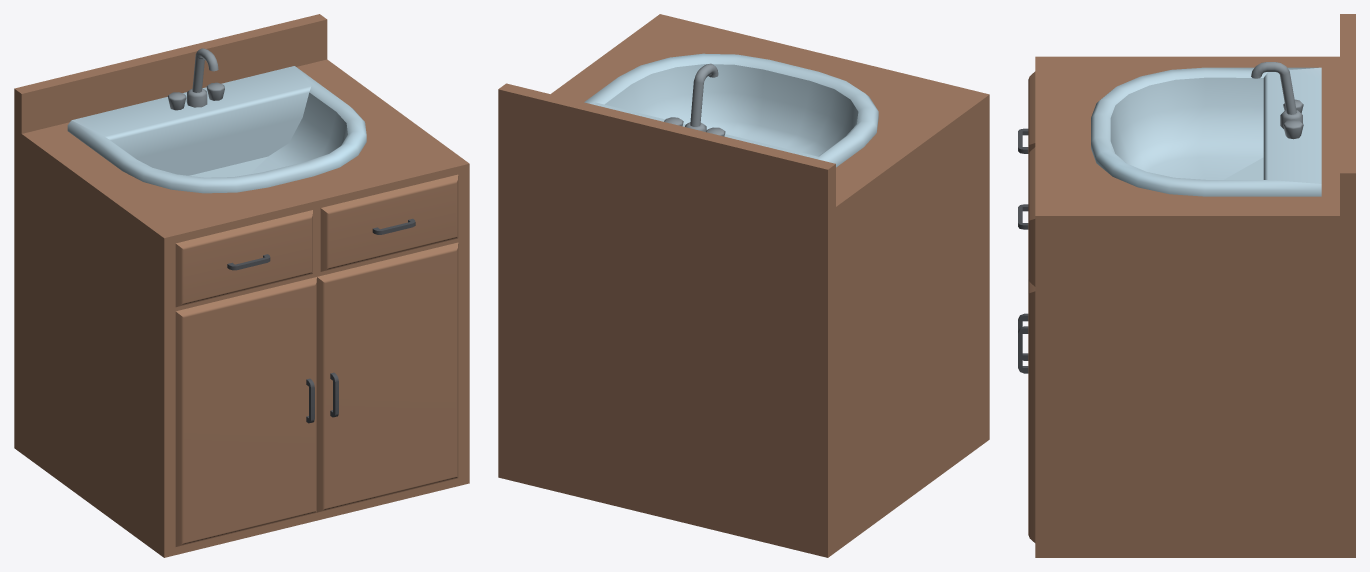
Rendered from Lavandino.fbx.
3 views of the same model, side by side, from view 1: azimuth 30°, elevation 25°; view 2: azimuth 150°, elevation 25°; view 3: azimuth 270°, elevation 25° (orthographic). The views are drawn at different scales.
Parts seen in each view (by area): view 1: polySurface4; view 2: polySurface4; view 3: polySurface4.
Boxes of the visible parts, left/top/right/bottom form: polySurface4: left=14, top=14, right=469, bottom=557; polySurface4: left=498, top=14, right=989, bottom=557; polySurface4: left=1018, top=14, right=1355, bottom=557.
Bounding box in the file's own units: 2 × 2.44 × 1.79.
